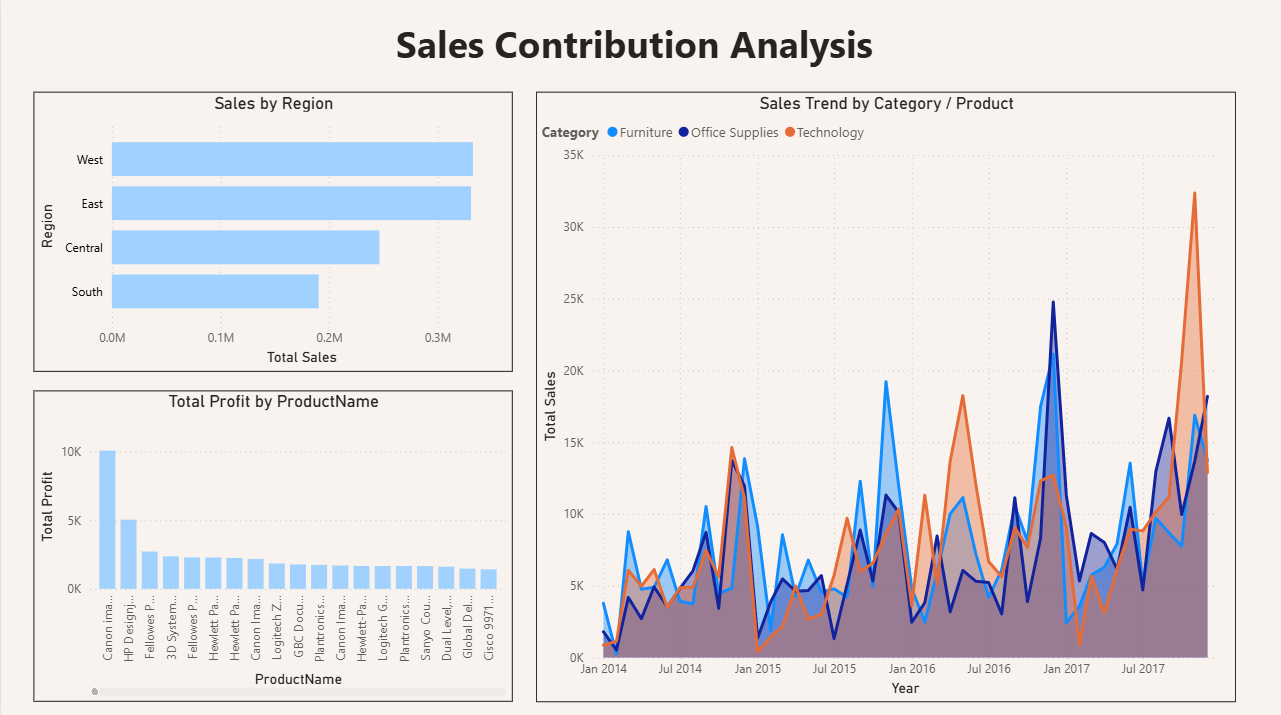

Layout of this report page (visuals, bound fields, positions):
{"tool":"powerbi","page":{"name":"Customer Breakdown","canvas":[1280,720],"ordinal":1},"visuals":[{"type":"barChart","title":"Sales by Region","fields":{"Category":["dim_region.Region"],"Y":["fact_sales.Total Sales"]},"box":[32.9,93.3,478.9,279.9],"z":0},{"type":"clusteredColumnChart","fields":{"Category":["dim_product.ProductName"],"Y":["fact_sales.Total Profit"]},"box":[32.9,392.5,478.9,311.5],"z":1},{"type":"areaChart","title":"Sales Trend by Category / Product","fields":{"Y":["fact_sales.Total Sales"],"Series":["dim_product.Category"],"Category":["dim_date.Date.Variation.Date Hierarchy.Year","dim_date.Date.Variation.Date Hierarchy.Month"]},"box":[535.2,93.3,699.8,610.6],"z":2},{"type":"textbox","box":[32.9,15.1,1202.1,68.6],"z":3}]}

Visuals, with their boxes in screenshot pixels (x1, y1, x2, y2), scaled from the page's 1280x720 canvas onto the 1281x715 screenshot:
"Sales by Region" barChart: 33 93 512 371
clusteredColumnChart - dim_product.ProductName x fact_sales.Total Profit: 33 390 512 699
"Sales Trend by Category / Product" areaChart: 536 93 1236 699
textbox: 33 15 1236 83
